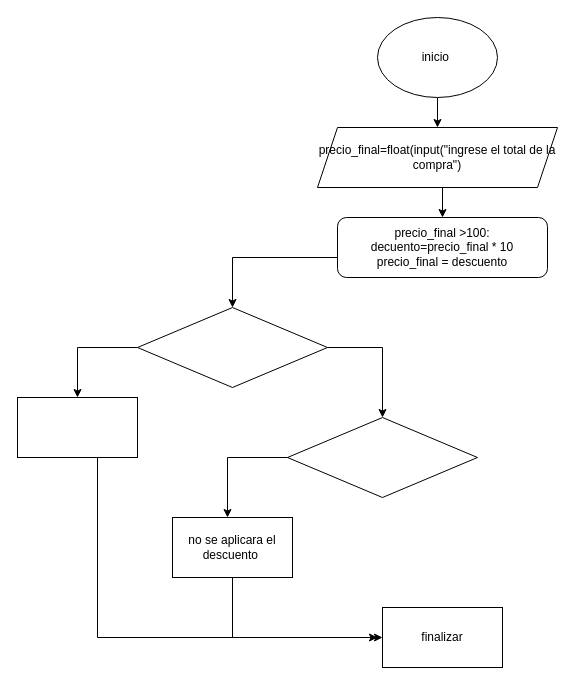
This 575x685 diagram has some shape labels left out. Each missing label, with the box of its shape:
se aplicara el descuento: (16, 396, 138, 458)
si precio_final es mayor a 100: (136, 306, 328, 388)
si precio_final es menor a 100: (286, 416, 478, 498)
